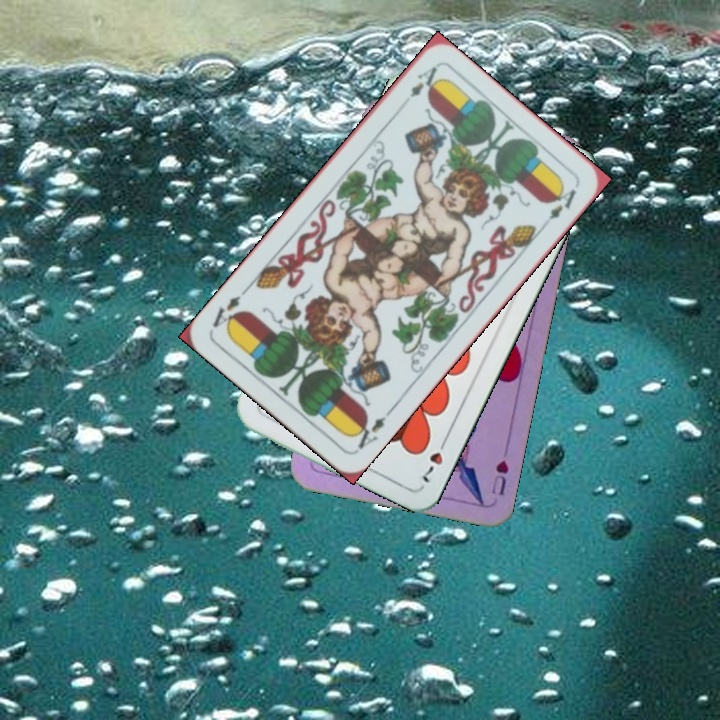EA: (347, 405, 395, 452), (406, 62, 441, 100)
H7: (418, 432, 450, 486)
HU: (487, 455, 511, 498)
